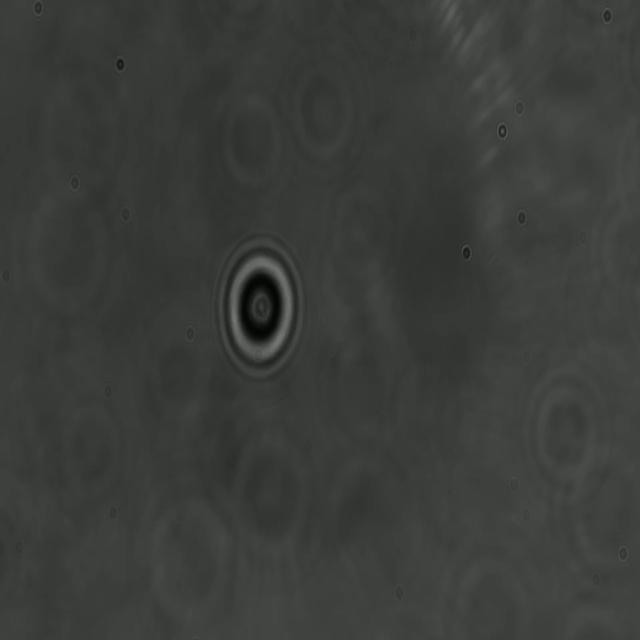LCELL: (213, 231, 307, 386)
